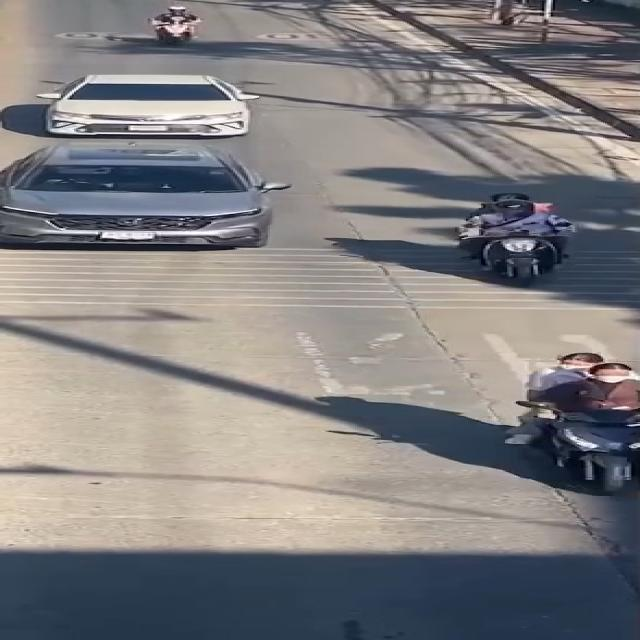car: (0, 136, 307, 264), (0, 70, 299, 140)
